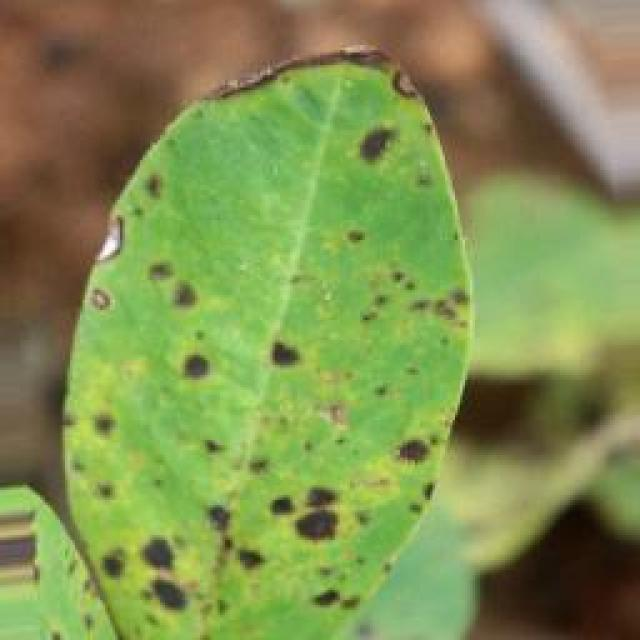Yellowish: (32, 23, 477, 640)
